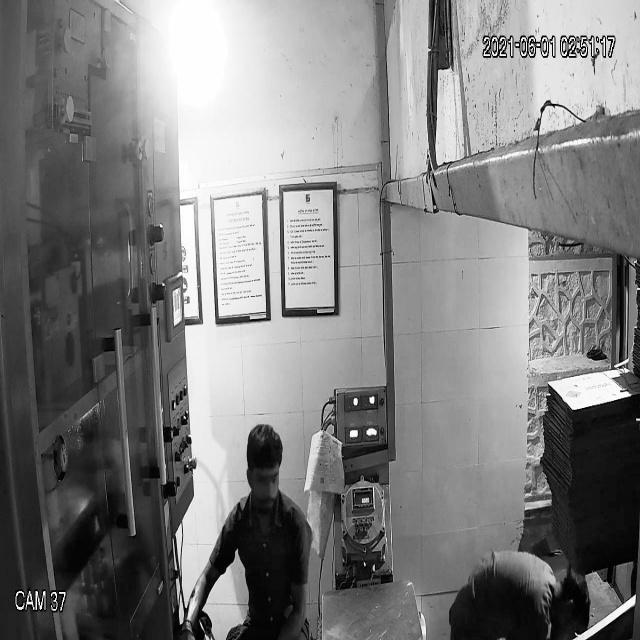Sin_gafas: (240, 460, 289, 495)
